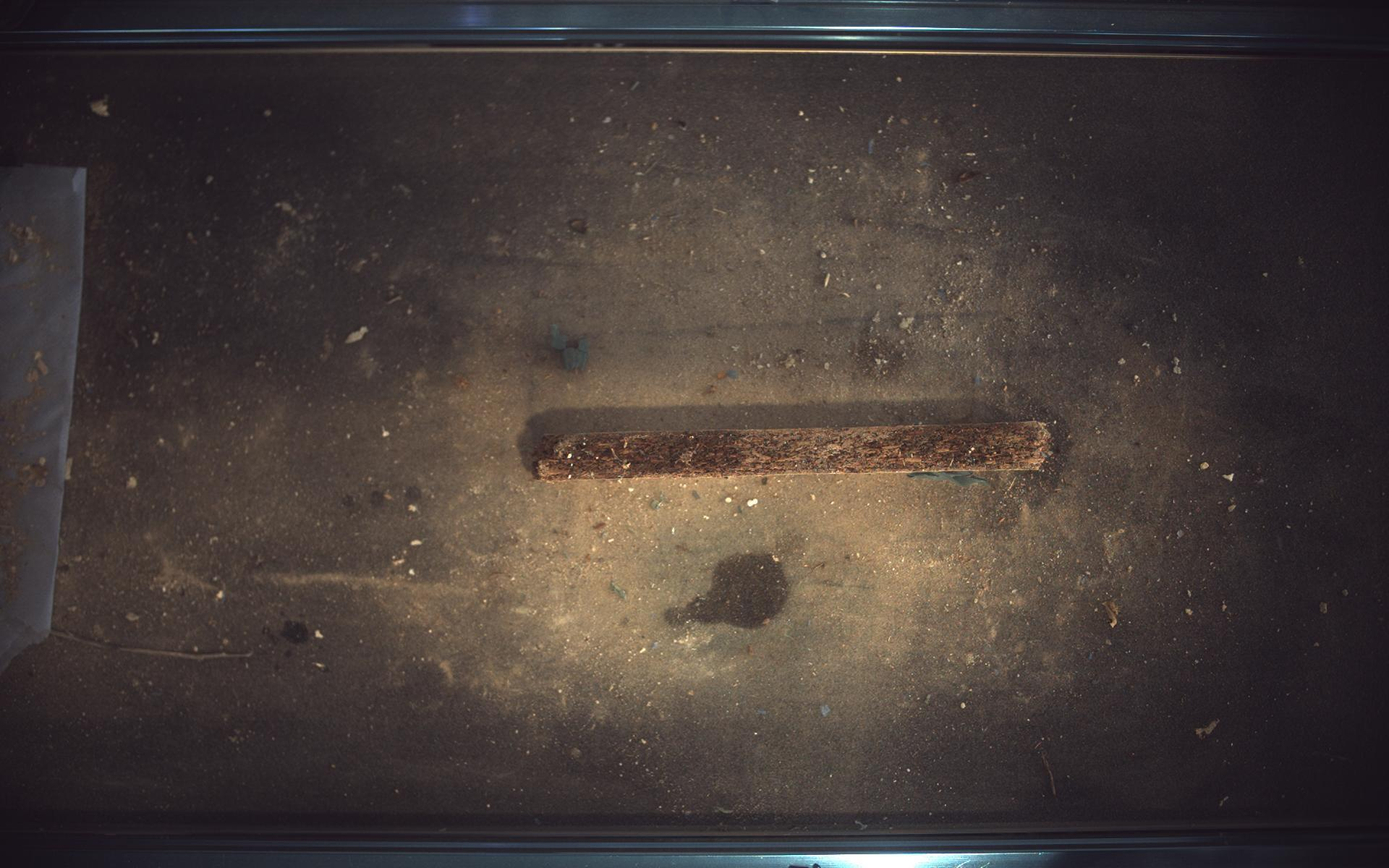wood: (535, 421, 1054, 482)
